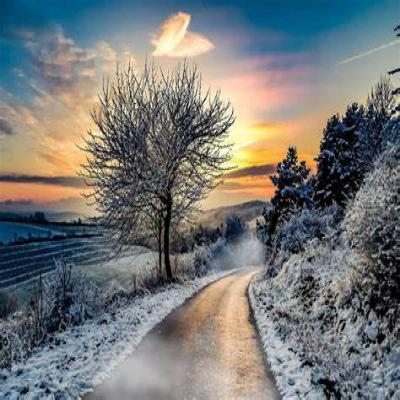iced-road: (95, 270, 279, 400)
